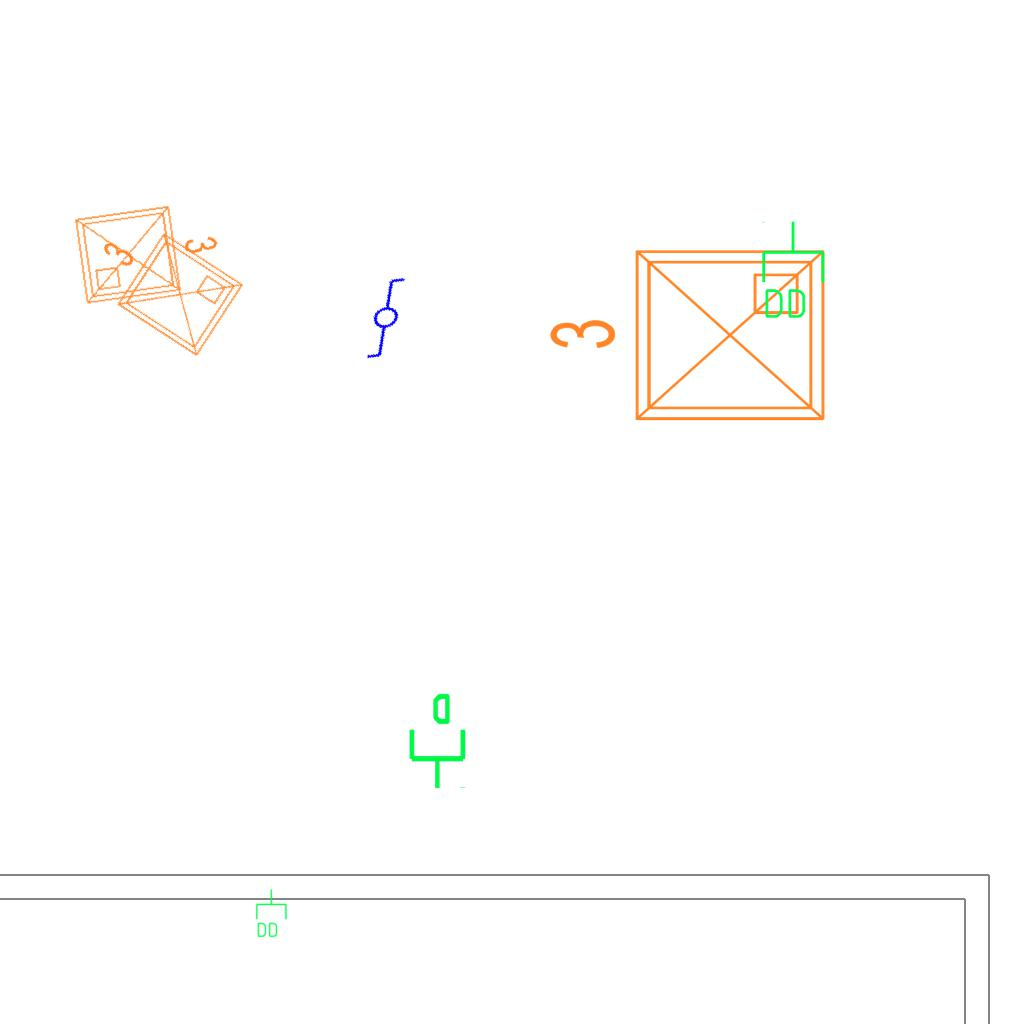Datenanschluss_einfach: (401, 691, 470, 791)
Datenanschluss_zweifach: (758, 219, 827, 322), (254, 888, 288, 939)
Einbaudownlights_LED_Konferenzraeume: (539, 235, 839, 443), (70, 200, 254, 370), (66, 188, 230, 312)
Wechselschalter: (340, 268, 440, 366)
